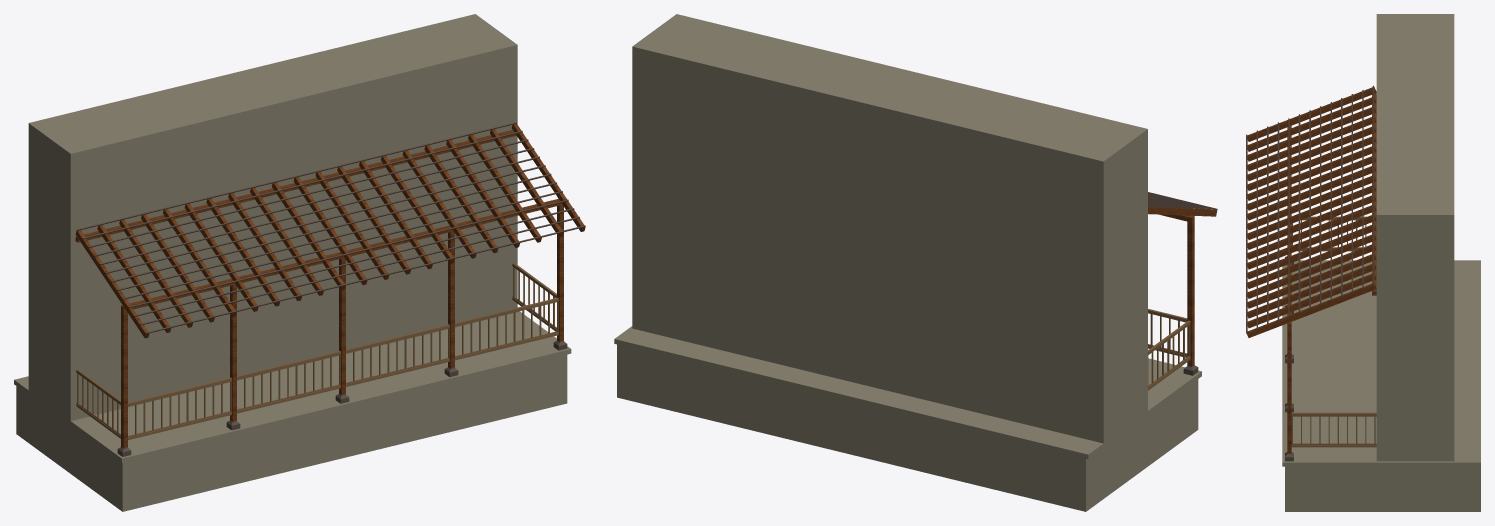
File: sample.obj
3 renders of one model, left to right at view 1: azimuth 30°, elevation 25°; view 2: azimuth 150°, elevation 25°; view 3: azimuth 270°, elevation 25°, orthographic. The views are drawn at different scales.
Parts seen in each view (by area): view 1: Mesh35 Group42 Model, Mesh28 Group33 Model, Mesh1 Group1 Model, Mesh2 Group2 Model, Mesh25 Group30 Group29 Model, Mesh22 Group26 Group25 Model, Mesh19 Group22 Group21 Model, Mesh16 Group18 Group17 Model, Mesh6 Group7 Group3 Model, Mesh7 Group8 Group3 Model, Mesh8 Group9 Group3 Model, Mesh9 Group10 Group3 Model (+36 smaller); view 2: Mesh35 Group42 Model, Mesh28 Group33 Model, Mesh36 Group43 Component_1_1 Model, Mesh29 Group35 Group34 Model; view 3: Mesh35 Group42 Model, Mesh28 Group33 Model, Mesh62 rafters17 Model, Mesh65 rafters20 Model, Mesh47 rafters2 Model, Mesh61 rafters16 Model, Mesh56 rafters11 Model, Mesh58 rafters13 Model, Mesh66 rafters21 Model, Mesh48 rafters3 Model, Mesh64 rafters19 Model, Mesh49 rafters4 Model (+29 smaller).
Part boxes in pixels (x1,y1,x2,y2): Mesh35 Group42 Model: (28,14,517,420); Mesh28 Group33 Model: (14,311,571,511); Mesh1 Group1 Model: (121,199,562,311); Mesh2 Group2 Model: (75,130,516,242); Mesh25 Group30 Group29 Model: (455,301,558,357); Mesh22 Group26 Group25 Model: (346,327,449,384); Mesh19 Group22 Group21 Model: (237,354,340,410); Mesh16 Group18 Group17 Model: (128,381,231,437); Mesh6 Group7 Group3 Model: (99,156,539,265); Mesh7 Group8 Group3 Model: (105,165,545,273); Mesh8 Group9 Group3 Model: (111,173,551,282); Mesh9 Group10 Group3 Model: (82,130,522,239); Mesh35 Group42 Model: (632,14,1147,443); Mesh28 Group33 Model: (614,326,1201,511); Mesh36 Group43 Component_1_1 Model: (1187,221,1194,366); Mesh29 Group35 Group34 Model: (1148,324,1190,387); Mesh35 Group42 Model: (1376,14,1454,461); Mesh28 Group33 Model: (1282,260,1480,511); Mesh62 rafters17 Model: (1246,283,1376,337); Mesh65 rafters20 Model: (1247,264,1376,318); Mesh47 rafters2 Model: (1247,97,1376,151); Mesh61 rafters16 Model: (1247,205,1376,259); Mesh56 rafters11 Model: (1247,156,1376,210); Mesh58 rafters13 Model: (1247,224,1376,279); Mesh66 rafters21 Model: (1247,254,1376,308); Mesh48 rafters3 Model: (1247,107,1376,161); Mesh64 rafters19 Model: (1247,244,1376,298); Mesh49 rafters4 Model: (1247,117,1376,171).
Size of the model in its own units: 10.31 by 7.06 by 5.06.
